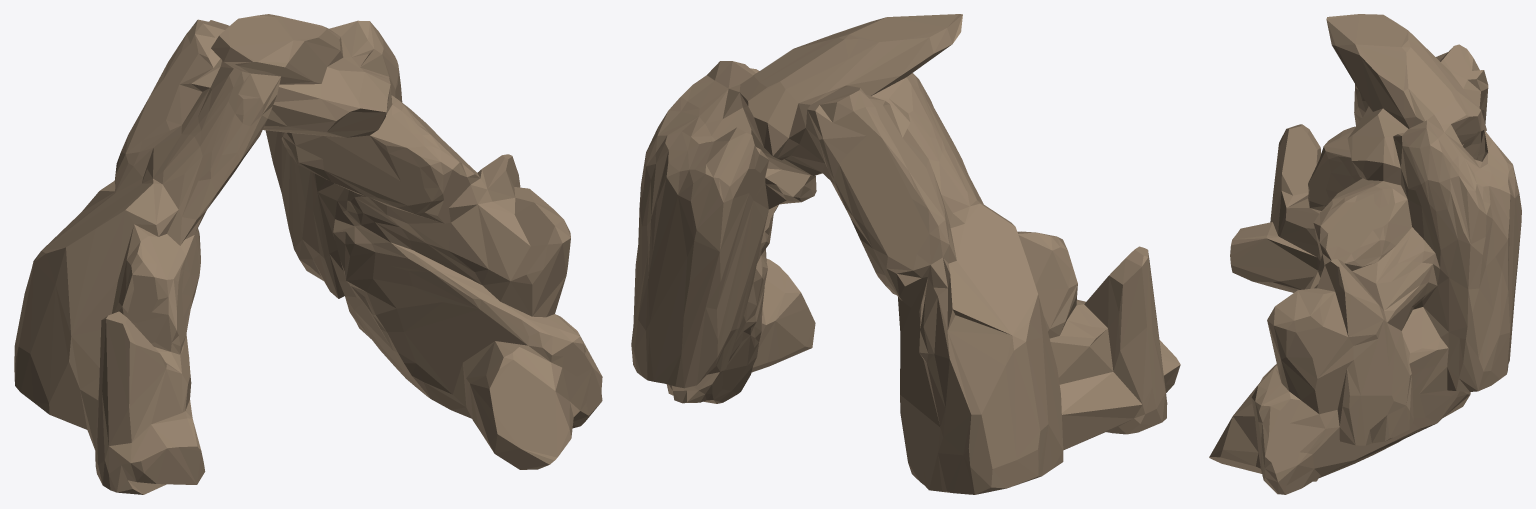
File: SM_Env_Rock_Cave_01.fbx
3 views of the same model, side by side, from view 1: azimuth 30°, elevation 25°; view 2: azimuth 150°, elevation 25°; view 3: azimuth 270°, elevation 25° (orthographic). The views are drawn at different scales.
Parts seen in each view (by area): view 1: SM_Env_Rock_Cave_01; view 2: SM_Env_Rock_Cave_01; view 3: SM_Env_Rock_Cave_01.
Boxes of the visible parts, x1,y1,x2,y2 form: SM_Env_Rock_Cave_01: (14,14,602,494); SM_Env_Rock_Cave_01: (631,14,1180,494); SM_Env_Rock_Cave_01: (1209,14,1521,494).
Size of the model in its own units: 3236 by 2671 by 2103.
